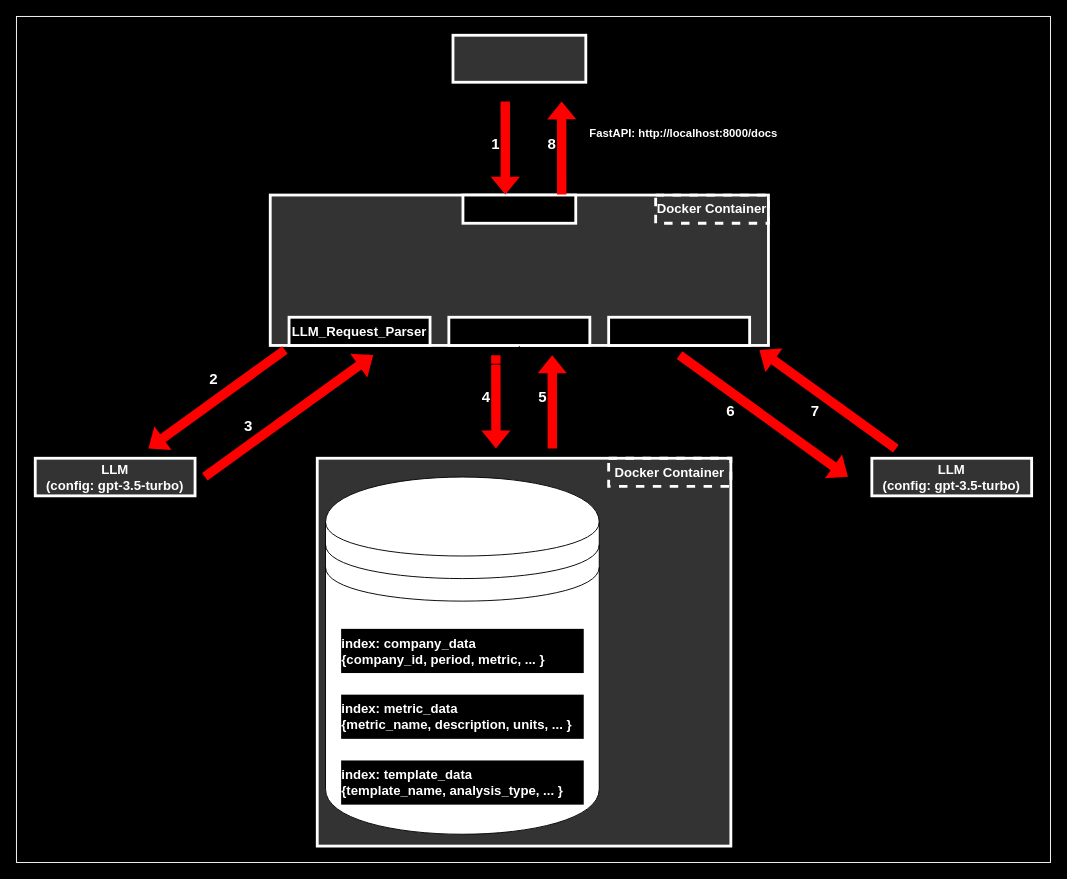
This 1067x879 diagram has some shape labels left out. The shapes that lost their labels are listed below. From the top down, each one's box as (x1, y1, x2, y2) in pixels, then its label:
(451, 33, 587, 83): Client Browser
(461, 193, 577, 224): web_app
(447, 315, 591, 346): RAG_Handler
(607, 315, 751, 346): LLM_Answerer
